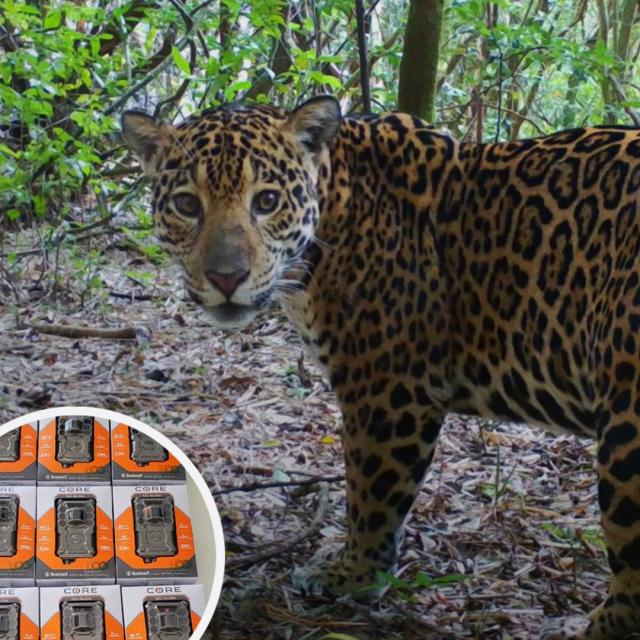Jaguar: (110, 96, 640, 629)
